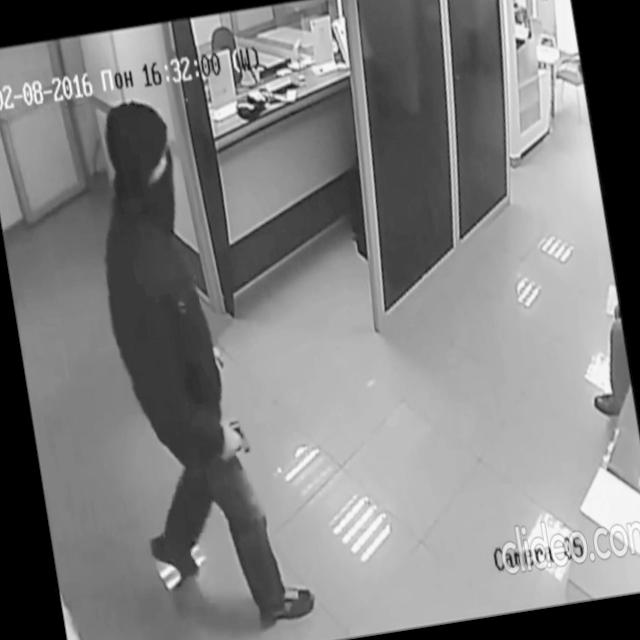gun: (227, 416, 252, 458)
person with a gun: (77, 83, 319, 640)
